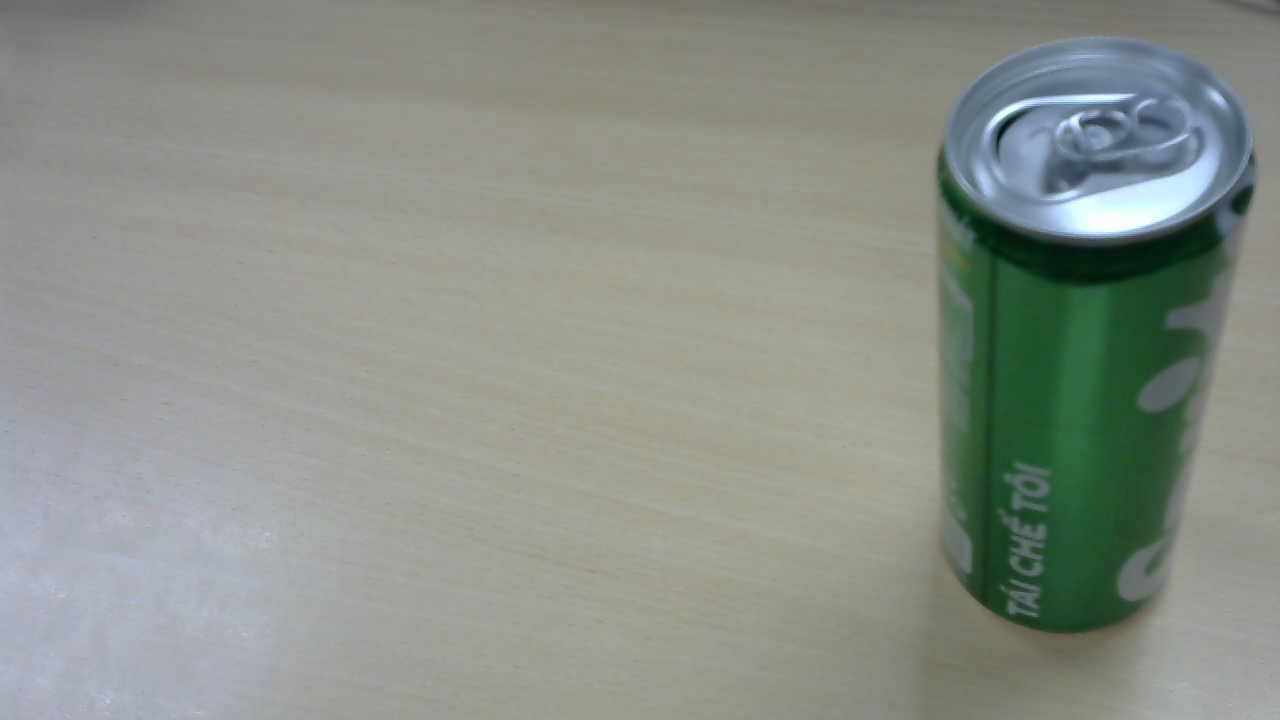Sprite: (932, 43, 1261, 639)
